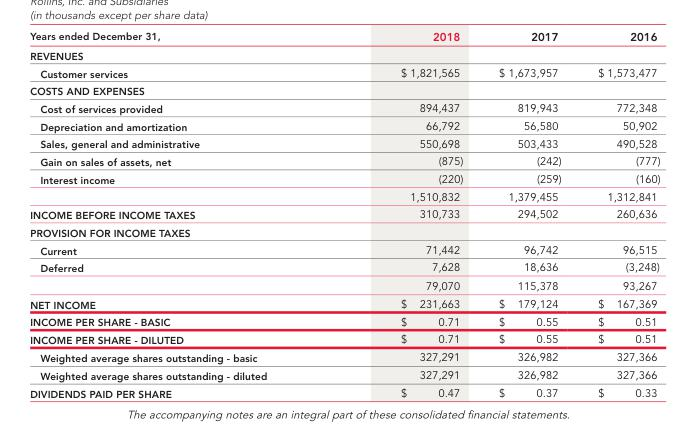table: (29, 28, 659, 400)
table column: (29, 28, 333, 400), (333, 28, 480, 400), (480, 28, 578, 400), (578, 28, 659, 400)
table column header: (29, 28, 659, 46)
table projected row header: (29, 46, 659, 64), (29, 223, 659, 241), (29, 82, 659, 99)
table row: (29, 204, 659, 223), (29, 28, 659, 46), (29, 46, 659, 64), (29, 64, 659, 82), (29, 99, 659, 117), (29, 134, 659, 152), (29, 152, 659, 170), (29, 223, 659, 241), (29, 258, 659, 276), (29, 276, 659, 294), (29, 294, 659, 312), (29, 312, 659, 330), (29, 330, 659, 348), (29, 348, 659, 366), (29, 366, 659, 384), (29, 82, 659, 99), (29, 117, 659, 134), (29, 170, 659, 187), (29, 187, 659, 204), (29, 241, 659, 258), (29, 384, 659, 400)
